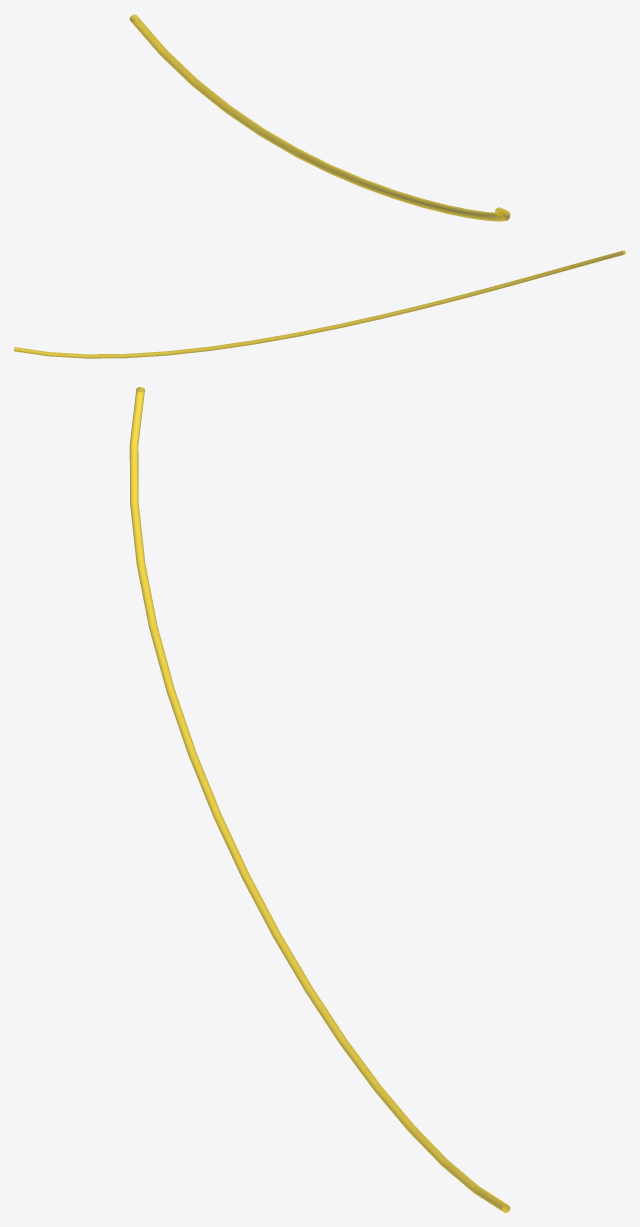
The model's file is Event_100608114_track_18.fbx.
The picture shows the model from 3 angles, top to bottom: view 1: azimuth 90°, elevation 25°; view 2: azimuth 150°, elevation 25°; view 3: azimuth 270°, elevation 25°; orthographic projection. The views are drawn at different scales.
Parts seen in each view (by area): view 1: Model; view 2: Model; view 3: Model.
Part boxes in pixels (<box>): Model: <box>129,14,510,221</box>; Model: <box>14,250,625,358</box>; Model: <box>129,387,510,1212</box>.
Bounding box in the file's own units: 5.48 × 1.66 × 1.74.
